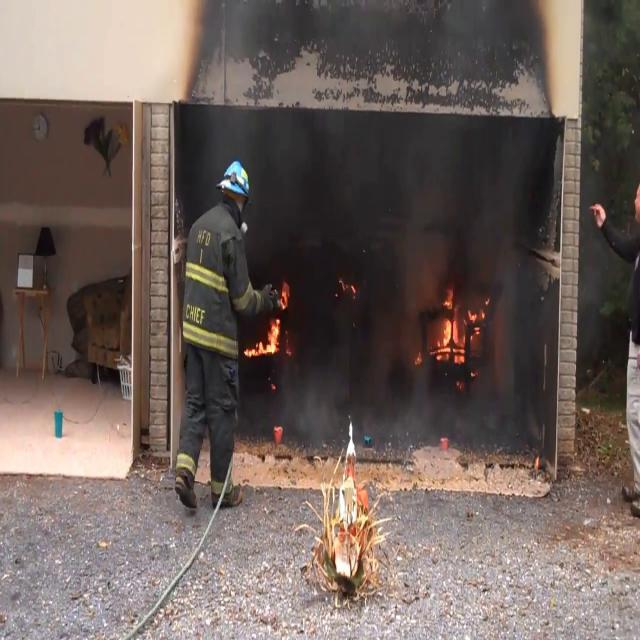Fire: (434, 286, 488, 366), (248, 314, 286, 361)
Smoke: (228, 112, 553, 448)
